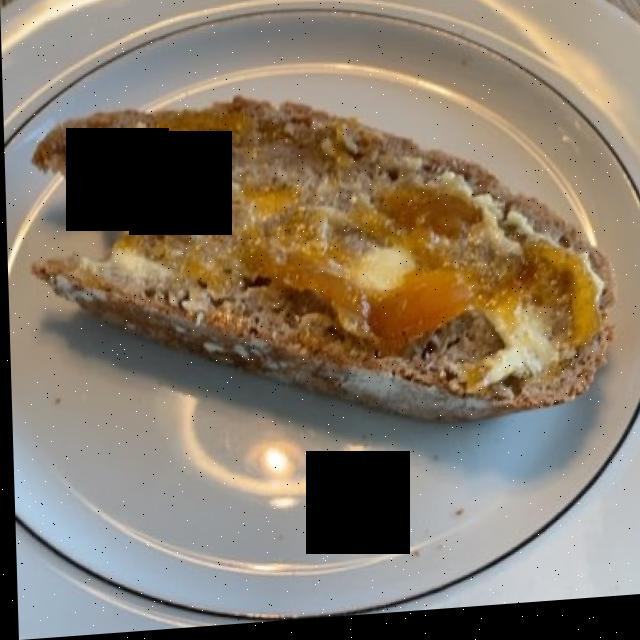bread-wholemeal: (44, 104, 606, 419)
jam: (121, 99, 587, 384)
